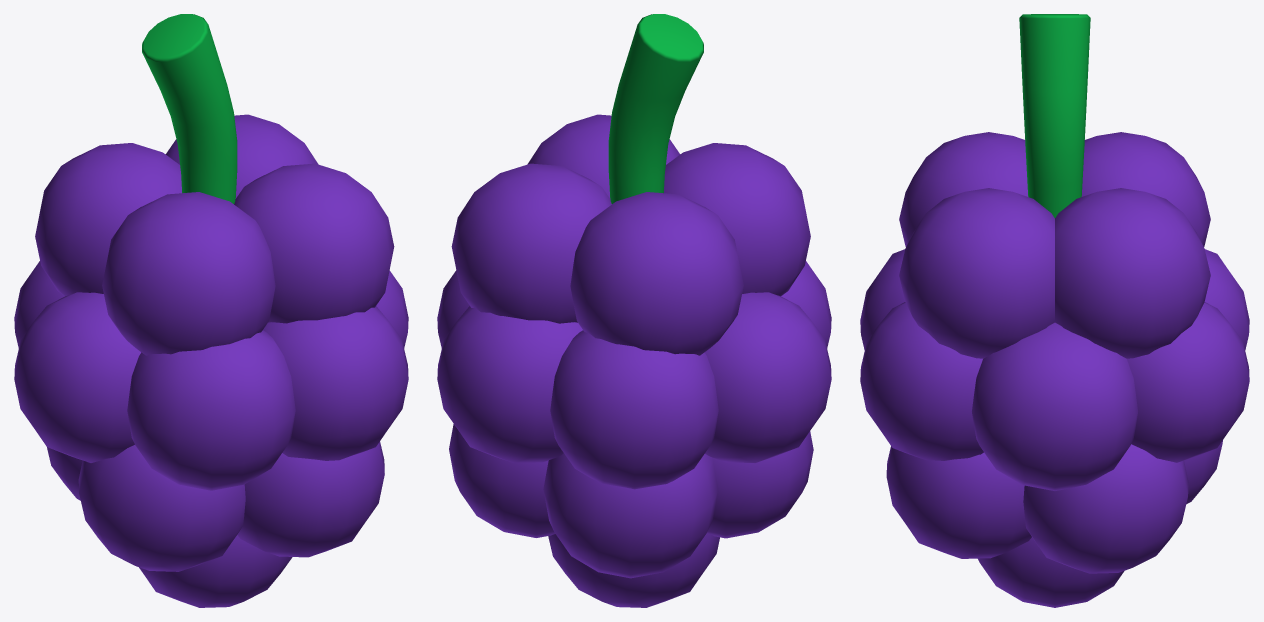
Rendered from Farm_17_Grape_1.glb.
3 renders of one model, left to right at view 1: azimuth 30°, elevation 25°; view 2: azimuth 150°, elevation 25°; view 3: azimuth 270°, elevation 25°, orthographic.
Parts seen in each view (by area): view 1: Farm_17_Grape_1; view 2: Farm_17_Grape_1; view 3: Farm_17_Grape_1.
Boxes of the visible parts, x1,y1,x2,y2 form: Farm_17_Grape_1: [14, 14, 408, 607]; Farm_17_Grape_1: [437, 14, 831, 607]; Farm_17_Grape_1: [860, 14, 1249, 607].
Size of the model in its own units: 0.3758 by 0.569 by 0.3474.
1 material, 1 textured.
